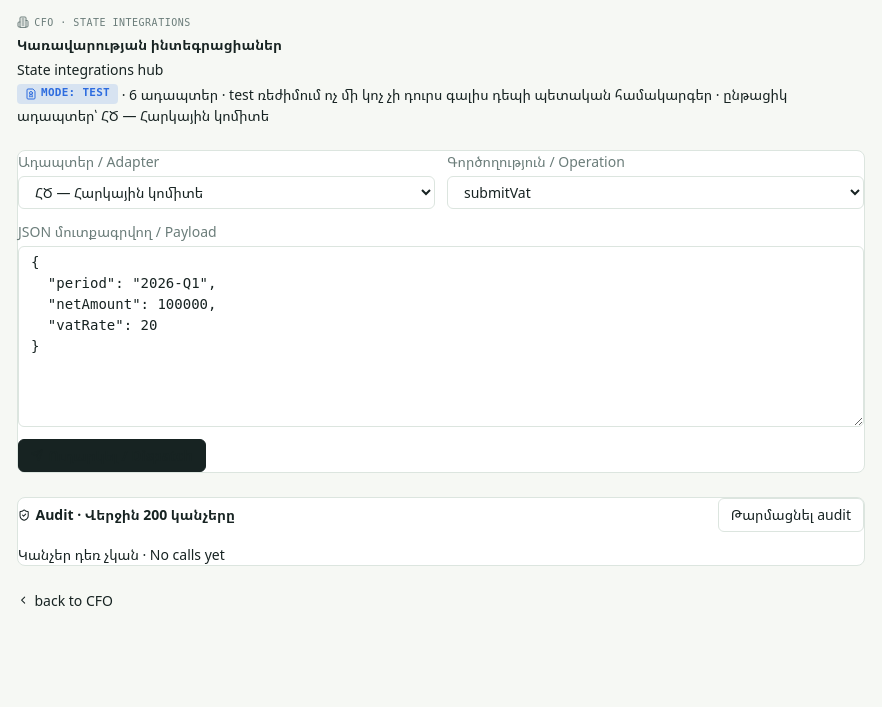
Scenario: State Integrations — dispatch flow › renders the last result with the Armenian status label
What coordinates should you click on to do the following:
click the button with test id "state-int-dispatch-button"
I would click on:
 (112, 455)
Its box is top-left (18, 438), bottom-right (206, 472).
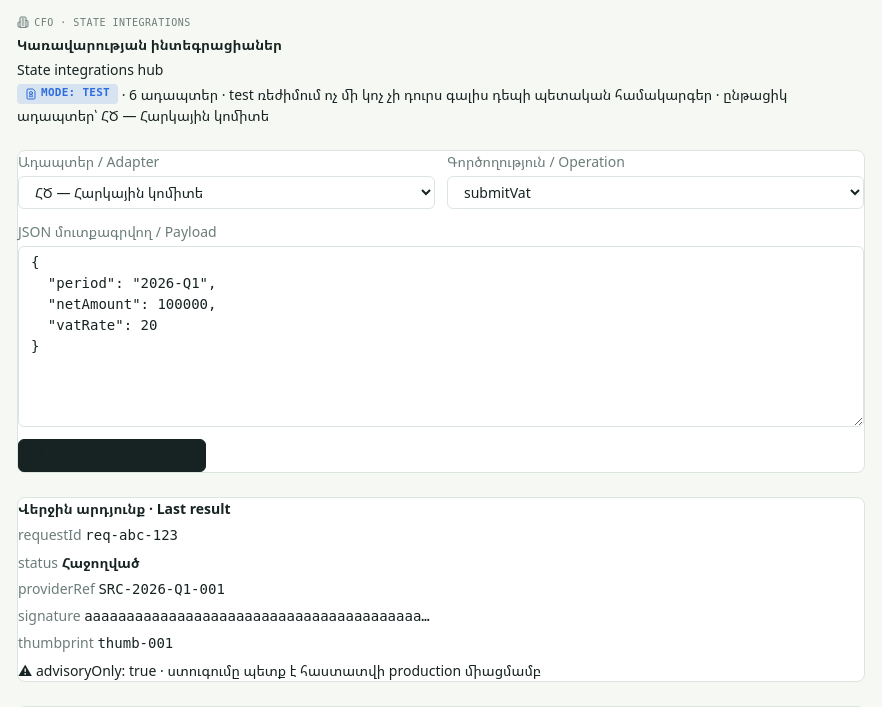
Result: the element with test id "state-int-result" is shown at top-left (17, 497), bottom-right (865, 682)
Result: the text "Հաջողված" is shown at top-left (62, 552), bottom-right (140, 572)
